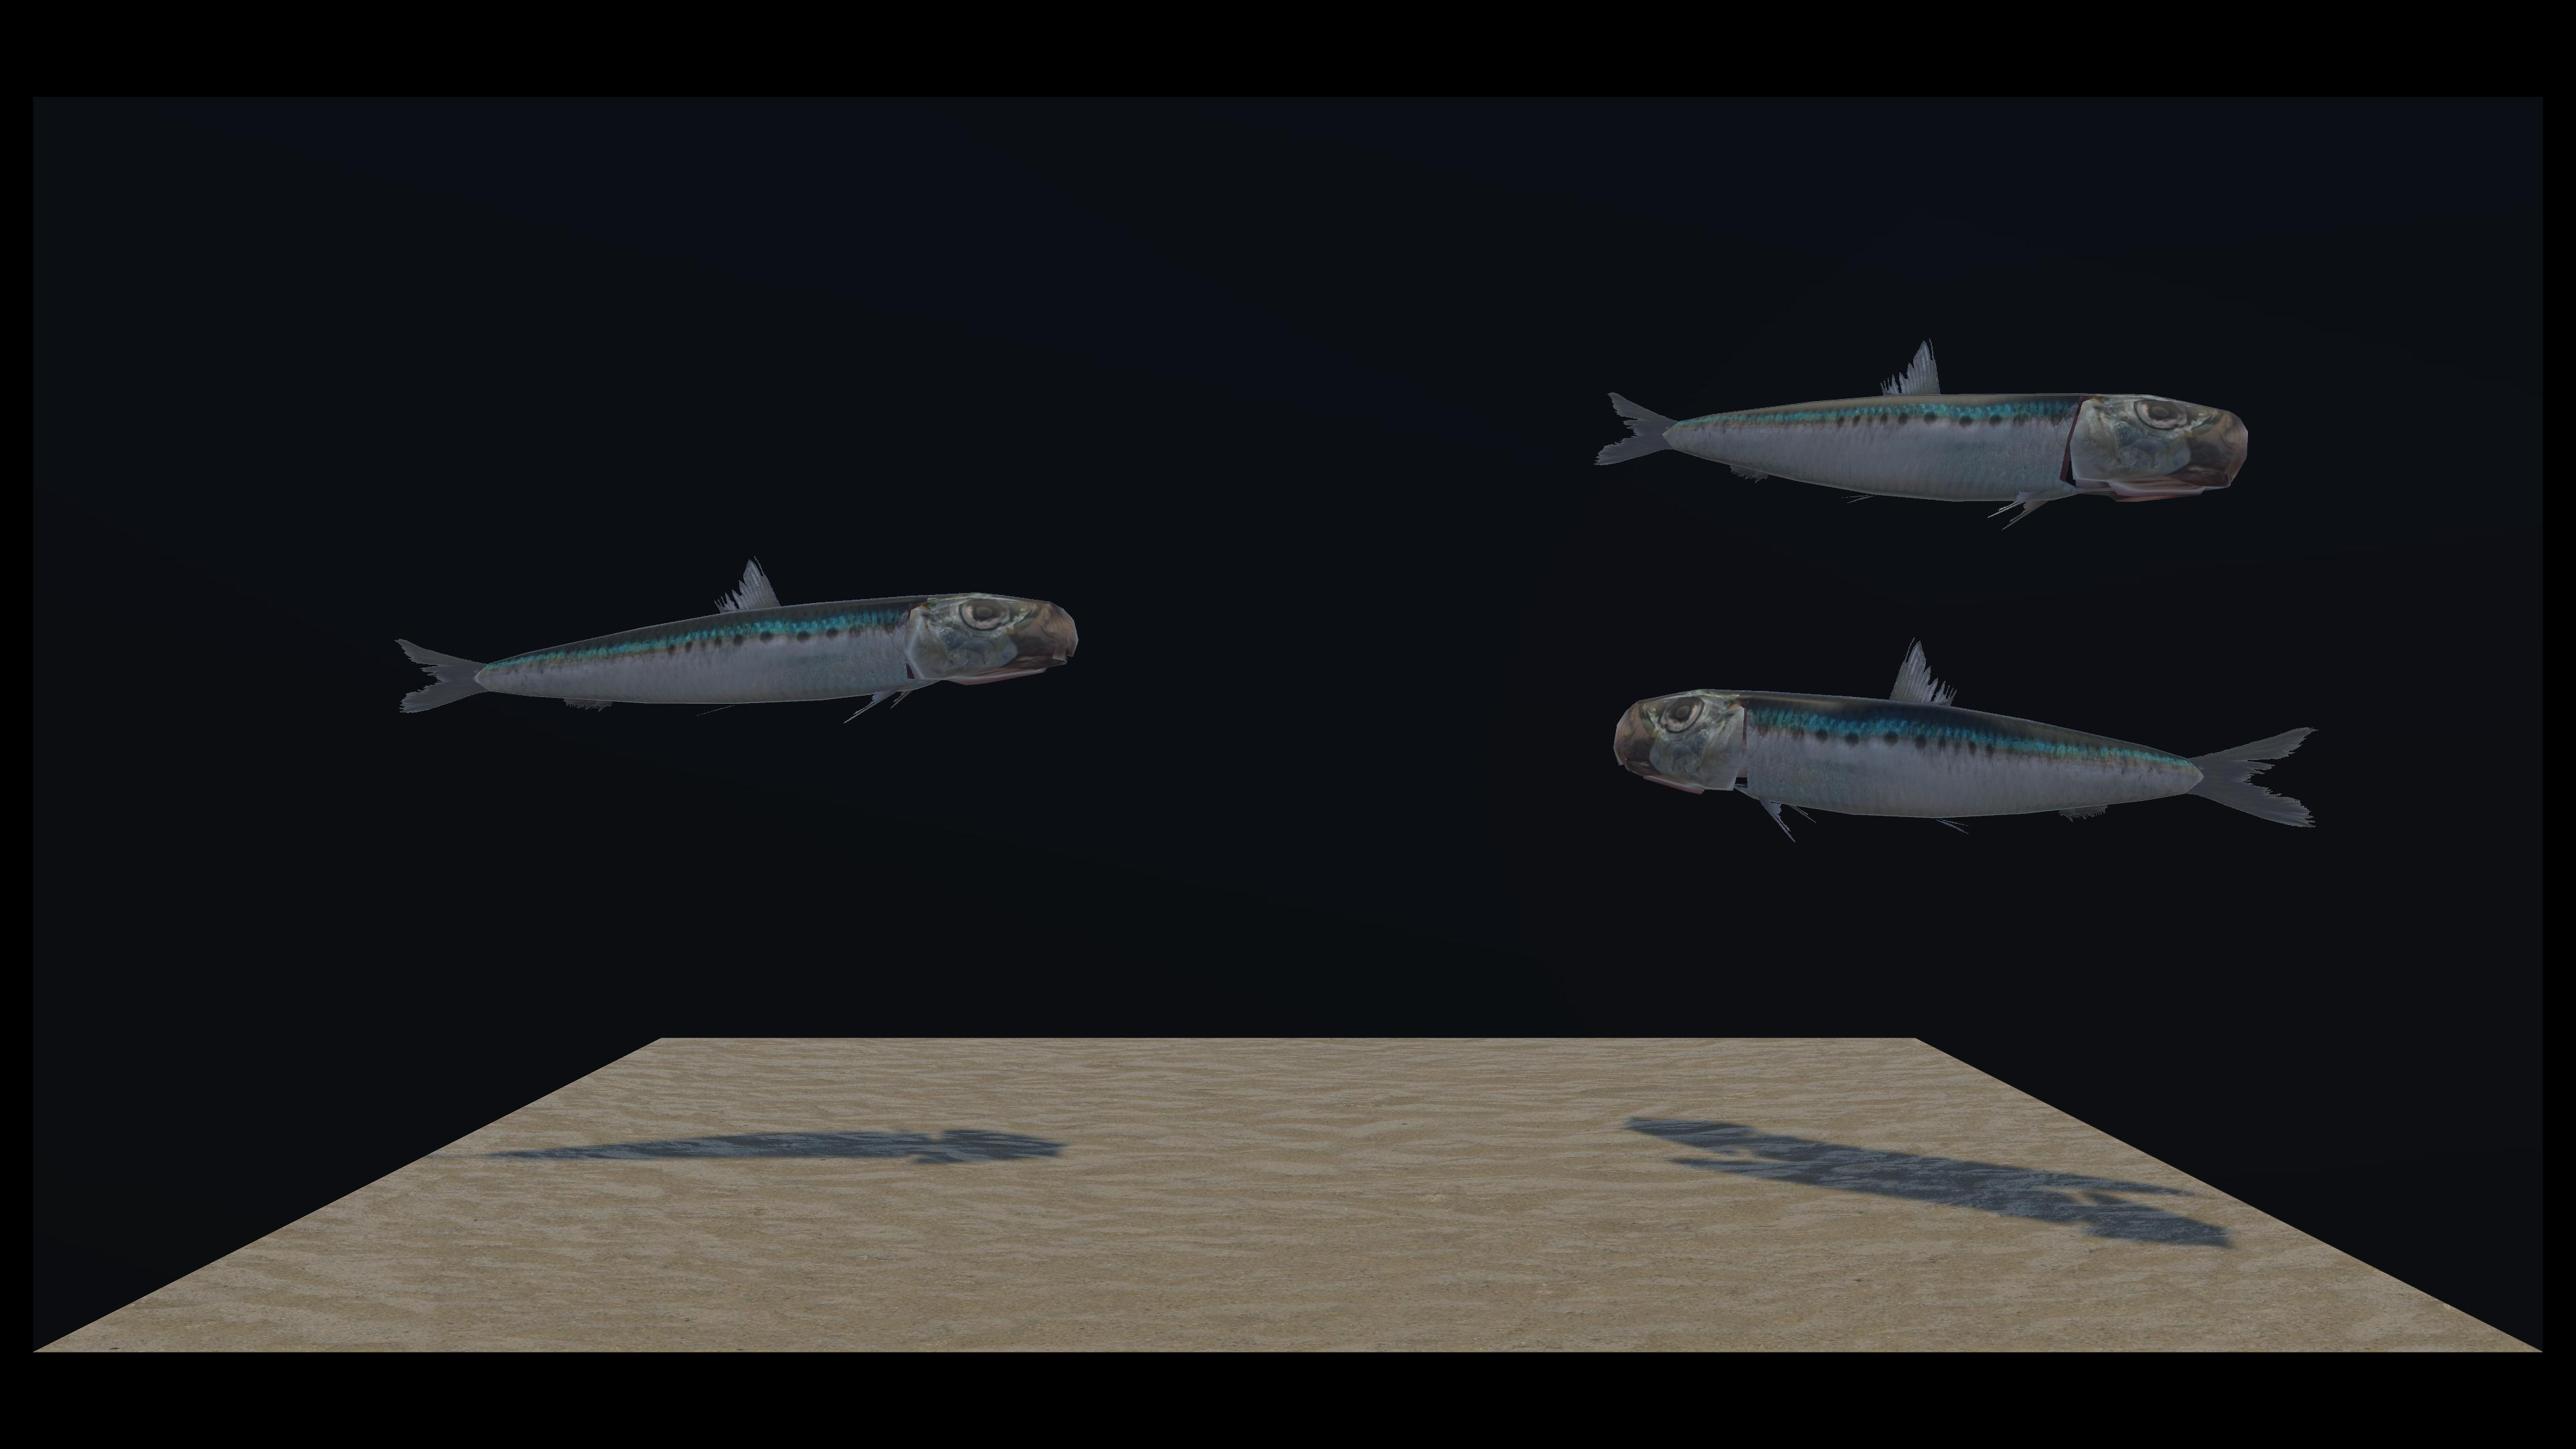Sardine_Front: (1021, 439, 2305, 846), (403, 313, 1047, 731), (932, 345, 2226, 541)
